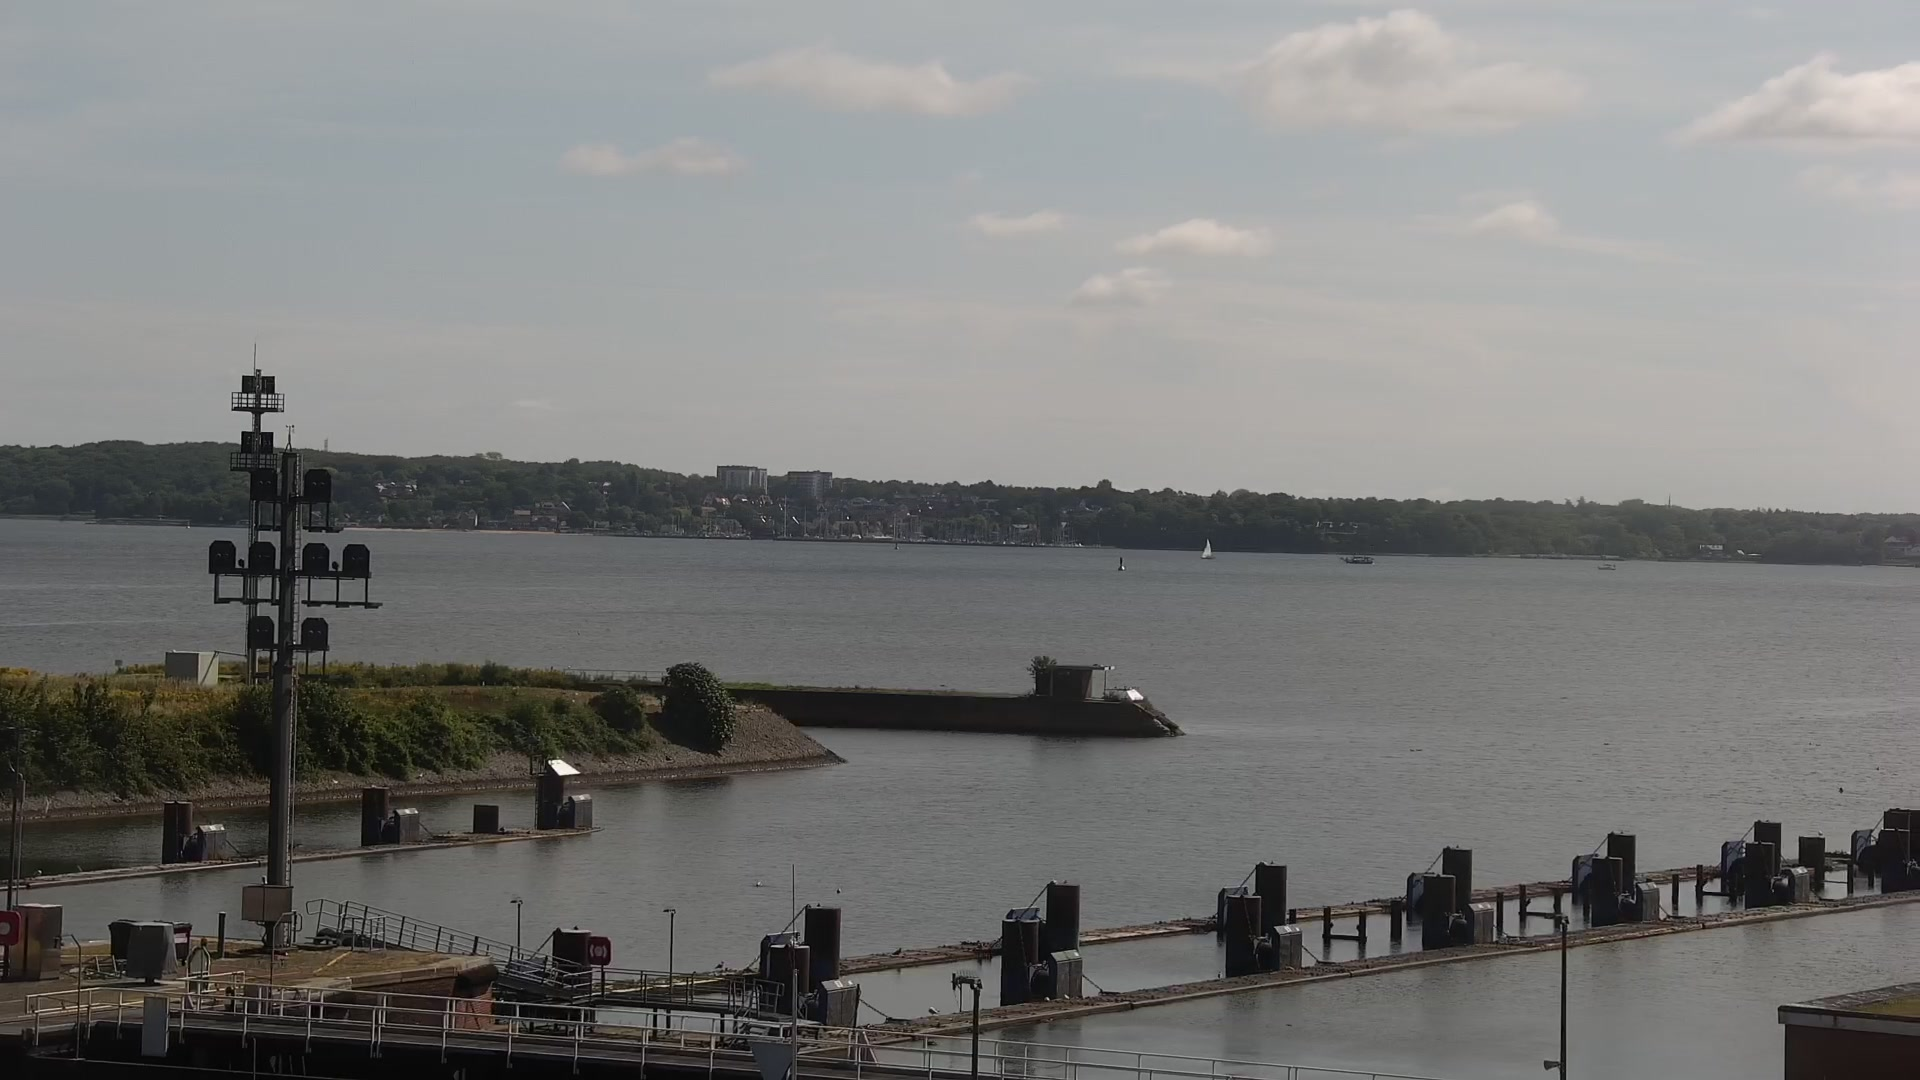sea: (1340, 554, 1375, 564), (1200, 538, 1215, 559), (1596, 562, 1617, 571)
